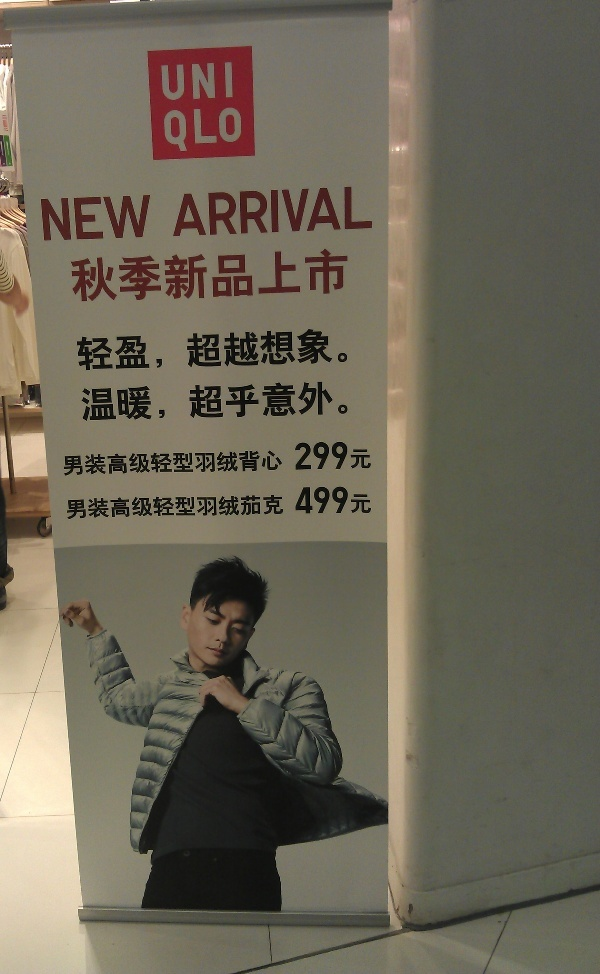text: (177, 182, 192, 243), (193, 182, 208, 243), (209, 182, 224, 243), (225, 182, 240, 243), (241, 182, 256, 243), (257, 182, 272, 243), (273, 182, 288, 243), (289, 182, 304, 243), (305, 182, 320, 243), (321, 182, 336, 243), (337, 182, 352, 243), (353, 182, 368, 243), (81, 247, 96, 303), (97, 247, 112, 303), (113, 247, 128, 303), (129, 247, 144, 303), (145, 247, 160, 303), (161, 247, 176, 303), (177, 247, 192, 303), (193, 247, 208, 303), (209, 247, 224, 303), (225, 247, 240, 303), (241, 247, 256, 303), (257, 247, 272, 303), (273, 247, 288, 303), (289, 247, 304, 303), (305, 247, 320, 303), (321, 247, 336, 303), (66, 247, 80, 303), (337, 247, 351, 303), (49, 195, 64, 244), (65, 195, 80, 244), (81, 195, 96, 244), (97, 195, 112, 244), (113, 195, 128, 244), (129, 195, 144, 244), (225, 106, 241, 151), (81, 327, 96, 373), (97, 327, 112, 373), (113, 327, 128, 373), (129, 327, 144, 373), (145, 327, 160, 373), (161, 327, 176, 373), (177, 327, 192, 373), (193, 327, 208, 373), (209, 327, 224, 373), (225, 327, 240, 373), (241, 327, 256, 373), (257, 327, 272, 373), (273, 327, 288, 373), (289, 327, 304, 373), (305, 327, 320, 373), (321, 327, 336, 373), (81, 379, 96, 425), (97, 379, 112, 425), (113, 379, 128, 425), (129, 379, 144, 425), (145, 379, 160, 425), (161, 379, 176, 425), (177, 379, 192, 425), (193, 379, 208, 425), (209, 379, 224, 425), (225, 379, 240, 425), (241, 379, 256, 425), (257, 379, 272, 425), (273, 379, 288, 425), (289, 379, 304, 425), (305, 379, 320, 425), (321, 379, 336, 425), (177, 106, 192, 151), (193, 106, 208, 151), (209, 106, 224, 151), (162, 106, 176, 151), (161, 61, 176, 101), (177, 61, 192, 101), (193, 61, 208, 101), (209, 61, 224, 101), (337, 327, 349, 373), (337, 379, 349, 425), (167, 182, 176, 243), (65, 447, 80, 481), (81, 447, 96, 481), (97, 447, 112, 481), (113, 447, 128, 481), (129, 447, 144, 481), (145, 447, 160, 481), (161, 447, 176, 481), (177, 447, 192, 481), (193, 447, 208, 481), (209, 447, 224, 481), (225, 447, 240, 481), (241, 447, 256, 481), (257, 447, 272, 481), (145, 195, 155, 244), (369, 182, 377, 243), (305, 442, 320, 472), (321, 442, 336, 472), (337, 442, 352, 472), (353, 442, 368, 472), (39, 195, 48, 244), (81, 492, 96, 521), (97, 492, 112, 521), (113, 492, 128, 521), (129, 492, 144, 521), (145, 492, 160, 521), (161, 492, 176, 521), (177, 492, 192, 521), (193, 492, 208, 521), (209, 492, 224, 521), (225, 492, 240, 521), (241, 492, 256, 521), (257, 492, 272, 521), (305, 486, 320, 514), (321, 486, 336, 514), (337, 486, 352, 514), (353, 486, 368, 514), (273, 447, 285, 481), (225, 61, 235, 101), (67, 492, 80, 521), (273, 492, 286, 521), (294, 442, 304, 472), (74, 327, 80, 373), (295, 486, 304, 514), (369, 442, 376, 472), (369, 486, 372, 514)
